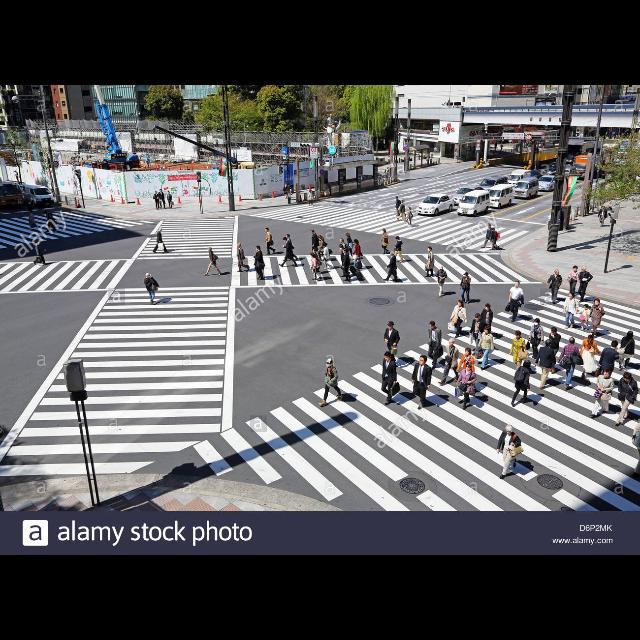head: (384, 352, 392, 362), (420, 355, 428, 365), (448, 338, 456, 348), (506, 425, 514, 435), (514, 330, 522, 340), (604, 369, 612, 379), (624, 373, 632, 383), (326, 359, 334, 368), (484, 327, 492, 335), (524, 361, 532, 369), (550, 328, 558, 336), (388, 323, 394, 331), (429, 322, 435, 330), (458, 300, 464, 308), (466, 348, 472, 356), (466, 364, 472, 372), (475, 314, 481, 322), (568, 292, 576, 298), (534, 318, 540, 326), (546, 340, 552, 348), (589, 332, 595, 340), (612, 341, 618, 349), (626, 332, 634, 338), (256, 246, 262, 252), (584, 305, 590, 311), (594, 300, 600, 306), (570, 338, 576, 344), (486, 304, 490, 312), (516, 280, 520, 288), (29, 210, 33, 216), (146, 274, 150, 280), (265, 228, 269, 234), (286, 234, 290, 240), (344, 248, 348, 254), (340, 240, 346, 244), (355, 240, 359, 246), (390, 252, 396, 256), (396, 236, 400, 242), (382, 230, 388, 234), (440, 266, 444, 272), (556, 270, 560, 276), (574, 266, 578, 272), (582, 267, 586, 273), (36, 240, 40, 244), (159, 228, 163, 232), (209, 248, 213, 252), (238, 244, 242, 248), (284, 238, 288, 242), (311, 254, 315, 258), (313, 249, 317, 253), (323, 244, 327, 248), (311, 230, 315, 234), (340, 248, 344, 252), (346, 233, 350, 237), (428, 248, 432, 252), (465, 274, 469, 278), (487, 224, 491, 228), (491, 228, 495, 232), (602, 207, 606, 210), (320, 236, 322, 240), (408, 208, 412, 210), (46, 212, 49, 214), (286, 182, 288, 185), (310, 190, 312, 193), (396, 197, 398, 200), (402, 200, 404, 203), (15, 171, 17, 173), (155, 192, 157, 194), (160, 190, 162, 192), (168, 193, 170, 195), (387, 168, 389, 170), (502, 144, 502, 144)
person: (496, 424, 526, 480), (556, 338, 586, 392), (612, 371, 640, 427), (579, 330, 605, 386), (594, 340, 622, 392), (318, 358, 344, 408), (590, 368, 616, 418), (533, 338, 557, 392), (411, 354, 434, 410), (454, 363, 478, 411), (381, 352, 402, 406), (438, 338, 460, 386), (511, 359, 533, 407), (508, 330, 530, 374), (504, 280, 526, 324), (427, 321, 445, 371), (447, 299, 469, 339), (457, 348, 478, 388), (525, 318, 545, 360), (616, 330, 636, 372), (468, 314, 487, 358), (383, 320, 401, 366), (477, 326, 495, 370), (342, 248, 364, 282), (546, 327, 562, 373), (588, 298, 606, 338), (278, 237, 300, 269), (562, 292, 580, 331), (480, 304, 494, 352), (203, 246, 223, 278), (143, 272, 161, 306), (546, 270, 564, 304), (578, 266, 594, 304), (252, 245, 268, 281), (340, 246, 358, 278), (381, 251, 399, 283), (152, 227, 170, 255), (480, 222, 498, 250), (574, 304, 592, 332), (32, 238, 48, 268), (567, 265, 581, 299), (236, 242, 250, 274), (283, 234, 299, 262), (434, 266, 448, 298), (458, 272, 472, 304), (309, 253, 323, 283), (44, 210, 60, 236), (319, 243, 333, 271), (352, 239, 364, 271), (26, 208, 40, 234), (338, 238, 350, 268), (265, 228, 277, 256), (310, 247, 322, 275), (344, 232, 356, 260), (392, 236, 404, 264), (424, 246, 434, 278), (316, 234, 328, 260), (310, 230, 322, 256), (489, 228, 501, 252), (380, 228, 390, 256), (396, 200, 408, 222), (597, 206, 609, 228), (157, 189, 167, 211), (393, 196, 402, 217), (406, 206, 414, 228), (153, 191, 161, 211), (167, 191, 175, 209), (283, 182, 291, 200), (14, 170, 22, 186), (308, 190, 314, 208), (384, 167, 390, 180), (499, 143, 503, 153)
